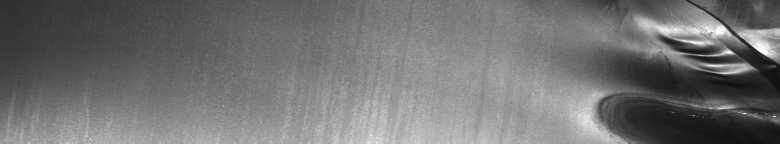ke: (592, 4, 776, 136)
